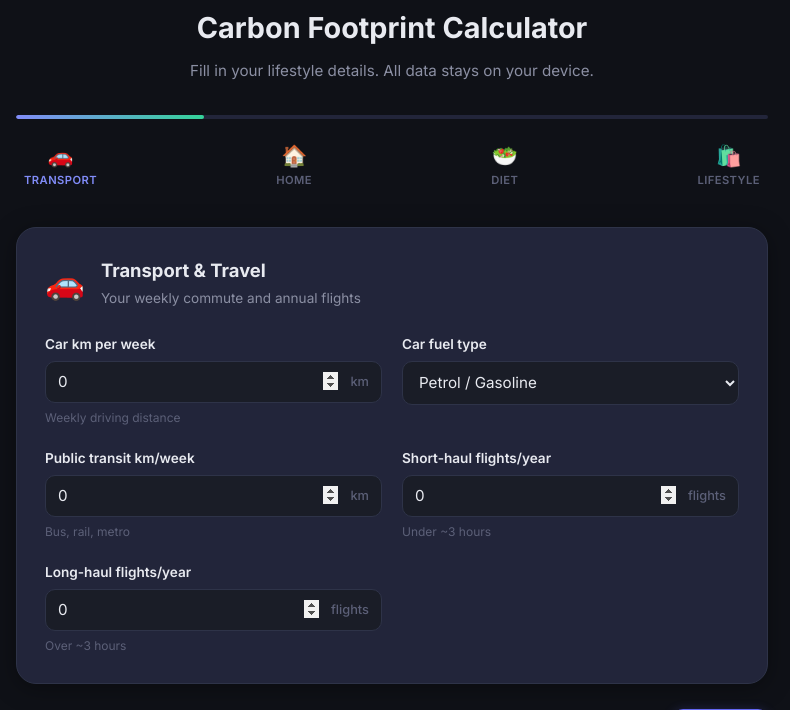
Test: Calculator Component › allows direct step navigation via stepper buttons
Note: Click on Diet step directly
Click the button with aria-label "Step 3": click(505, 165) [483,135,526,195]
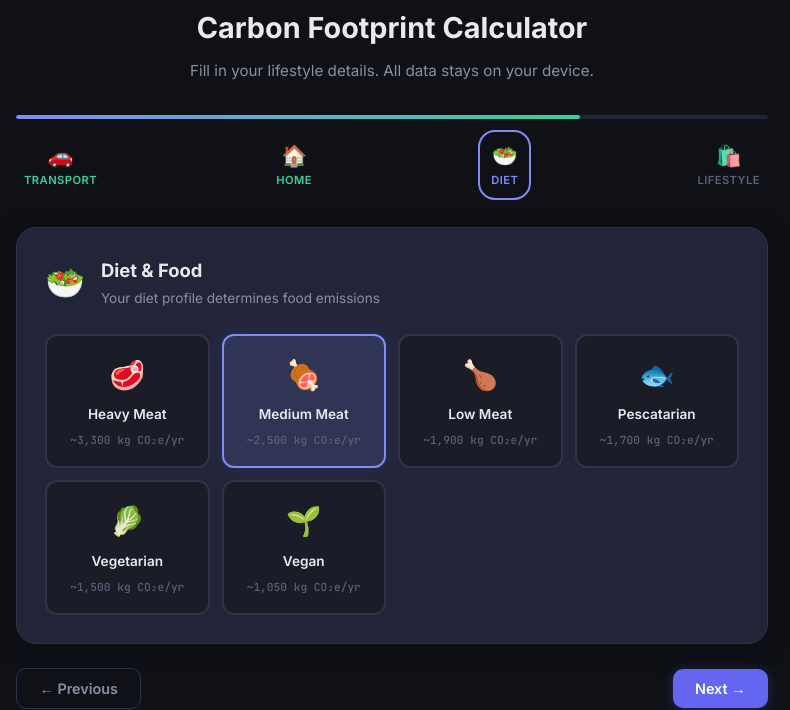
Check: the heading "Diet & Food" is shown, box [101,259,202,281]
